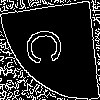C: (24, 25, 71, 68)
